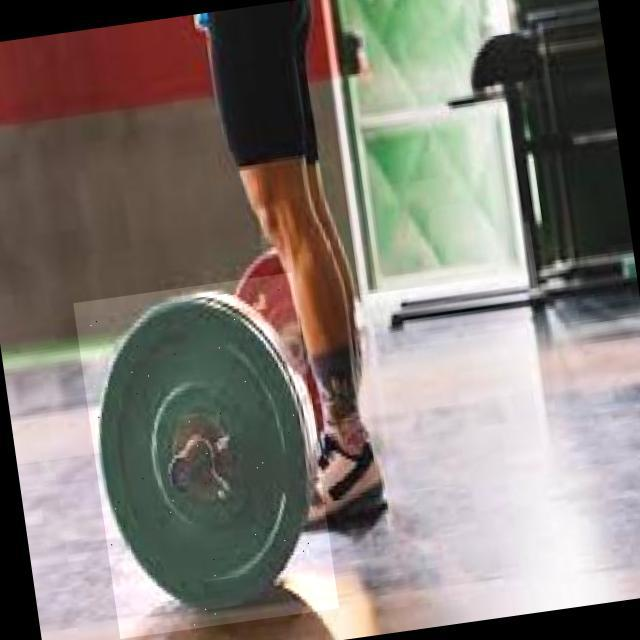barbell: (75, 274, 341, 640)
